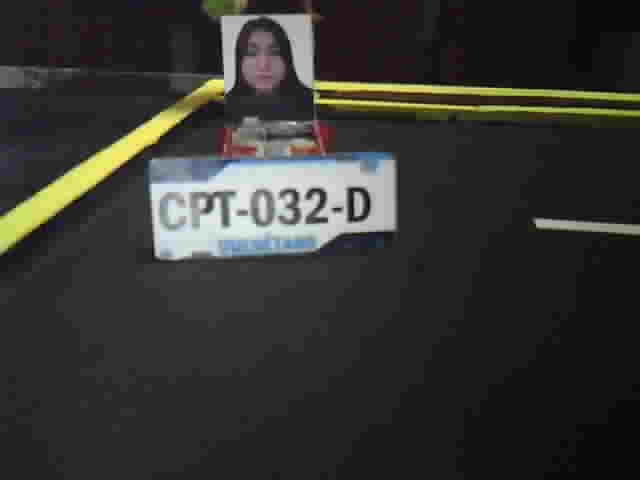PLACA: (144, 149, 401, 266)
ROSTRO: (225, 16, 312, 121)
